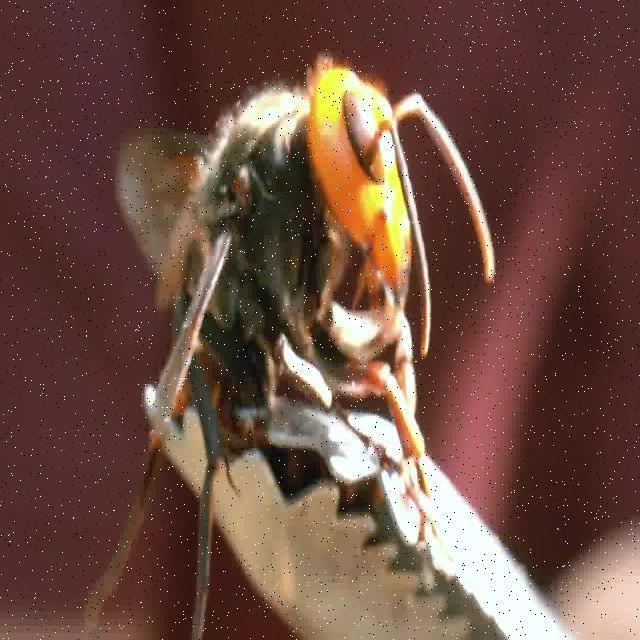Wasp: (83, 39, 489, 598)
